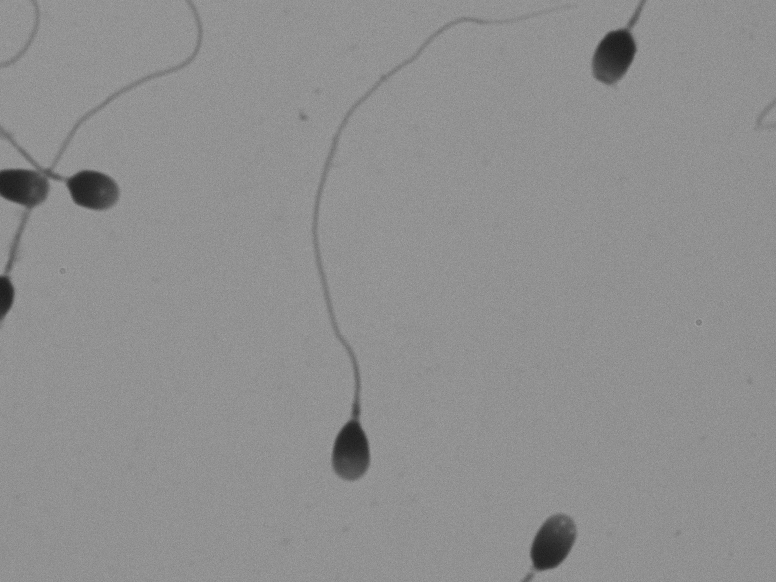Normal: (247, 32, 446, 495)
